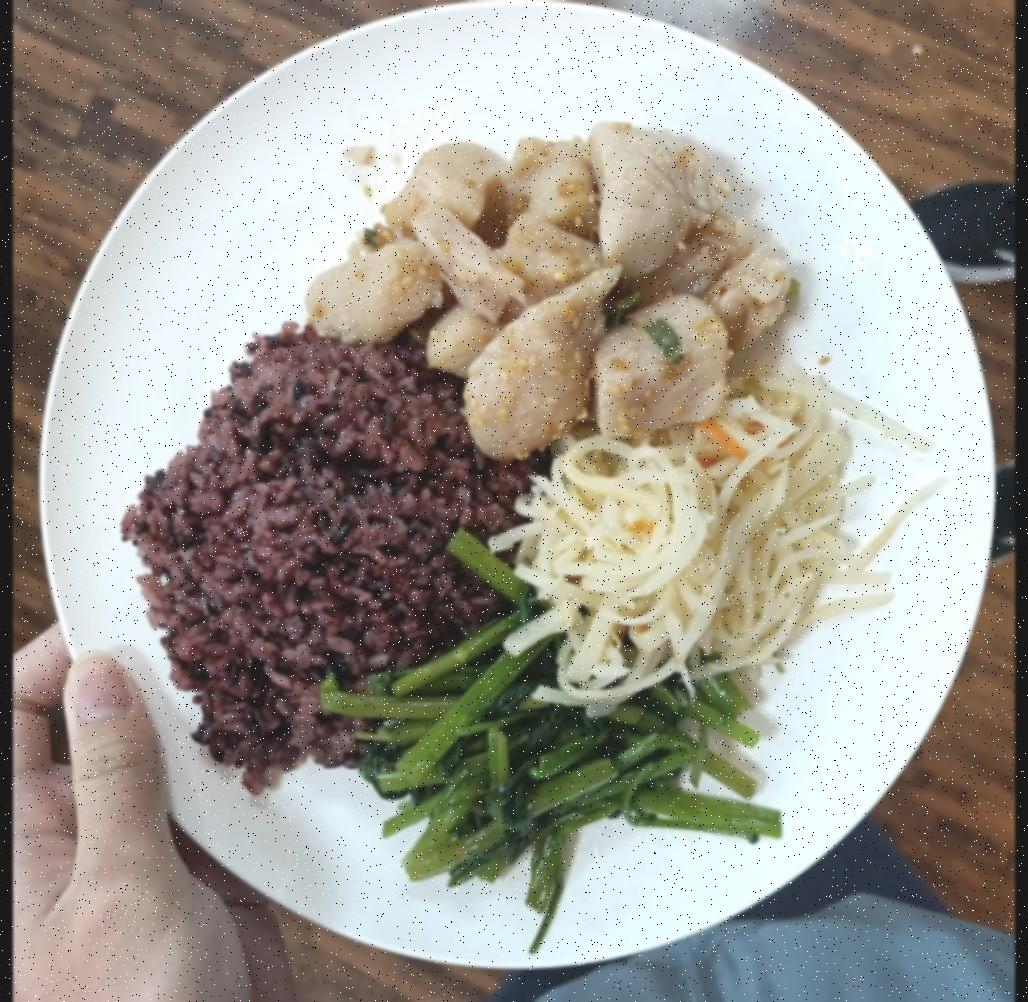plate: (46, 0, 1001, 975)
purple rice: (126, 320, 537, 787)
scallion chicken: (306, 117, 791, 465)
side dish: (366, 607, 785, 900), (496, 396, 843, 708)
